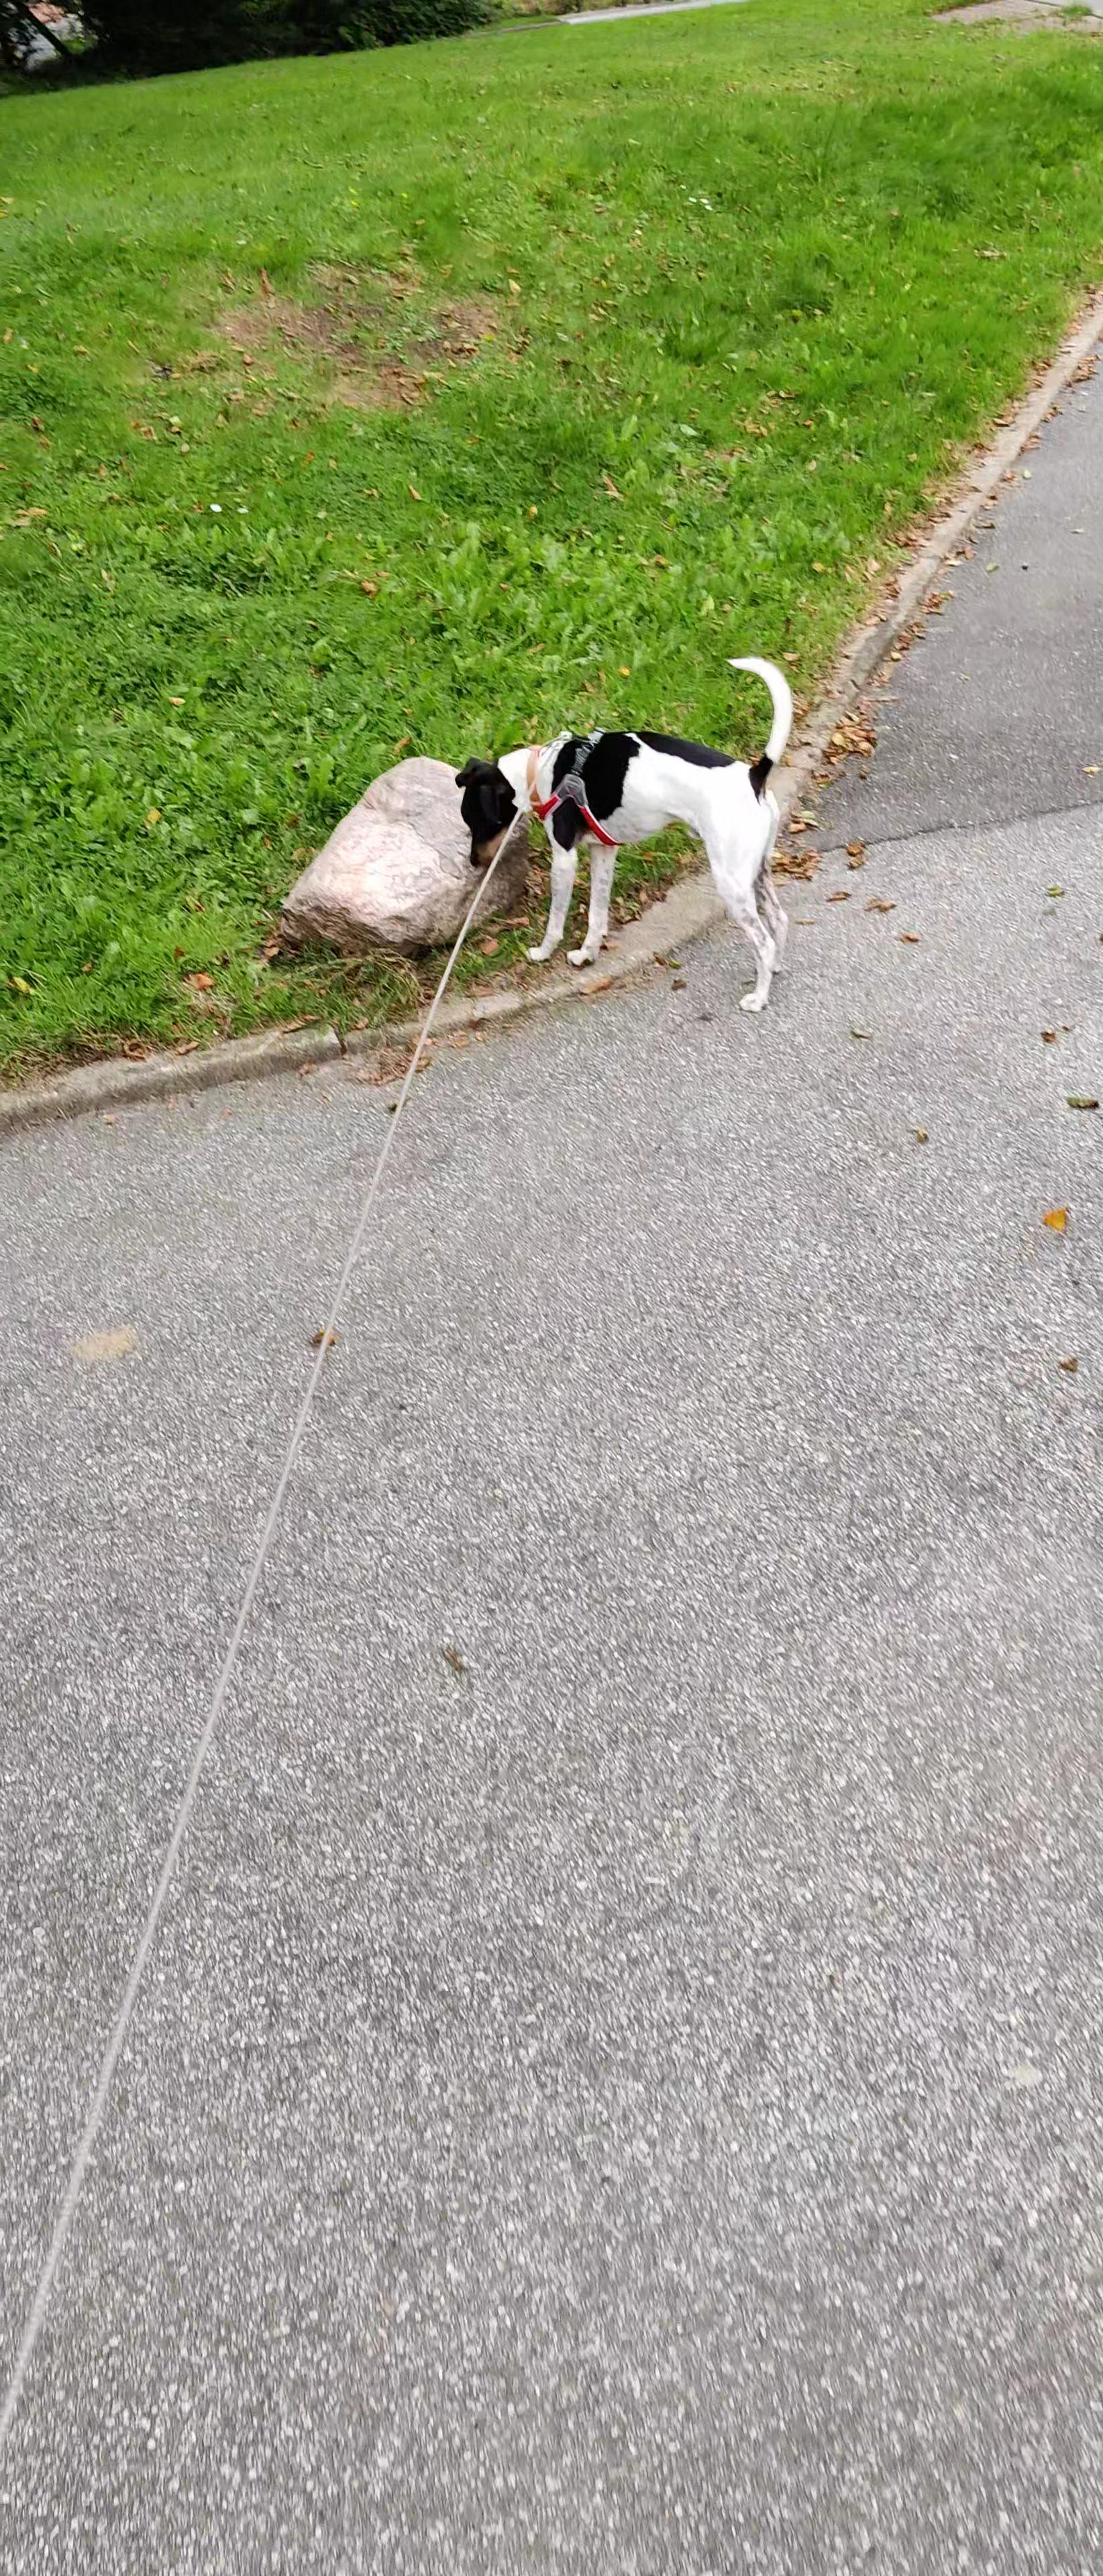Dog: (442, 651, 801, 1014)
